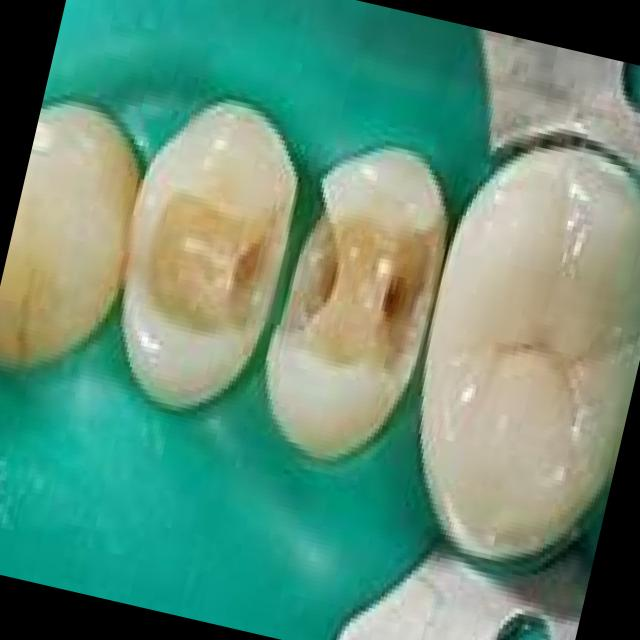Cavity: (270, 182, 444, 399), (122, 185, 290, 337)
Tooth: (423, 143, 640, 559), (264, 150, 447, 464), (118, 99, 297, 411), (0, 93, 138, 374)
